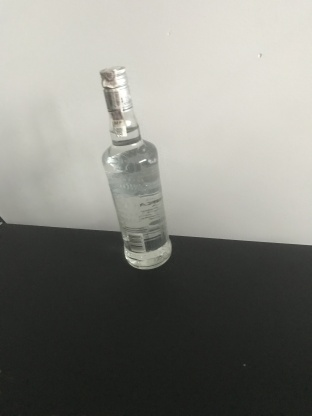nakretka: (98, 65, 134, 114)
